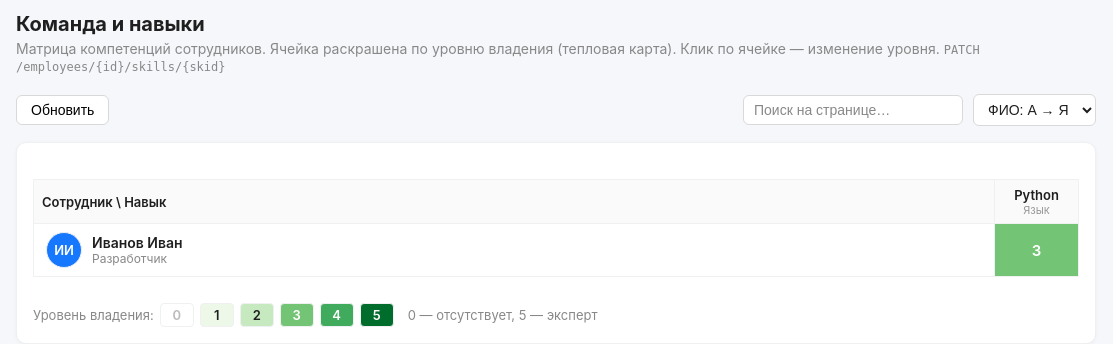
Test: TeamPage › поиск фильтрует сотрудников на странице
In the field with placeholder "Поиск на странице…": (853, 110) [743, 95, 963, 125], type "Петров"
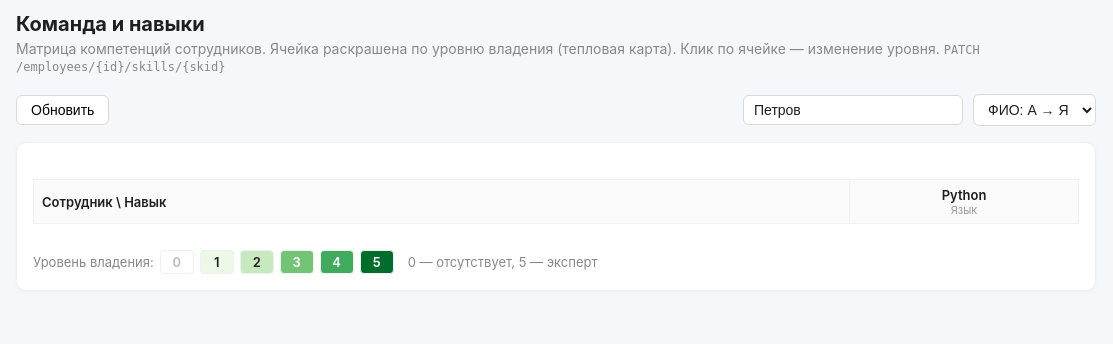
Now the text "Иванов Иван" is gone
